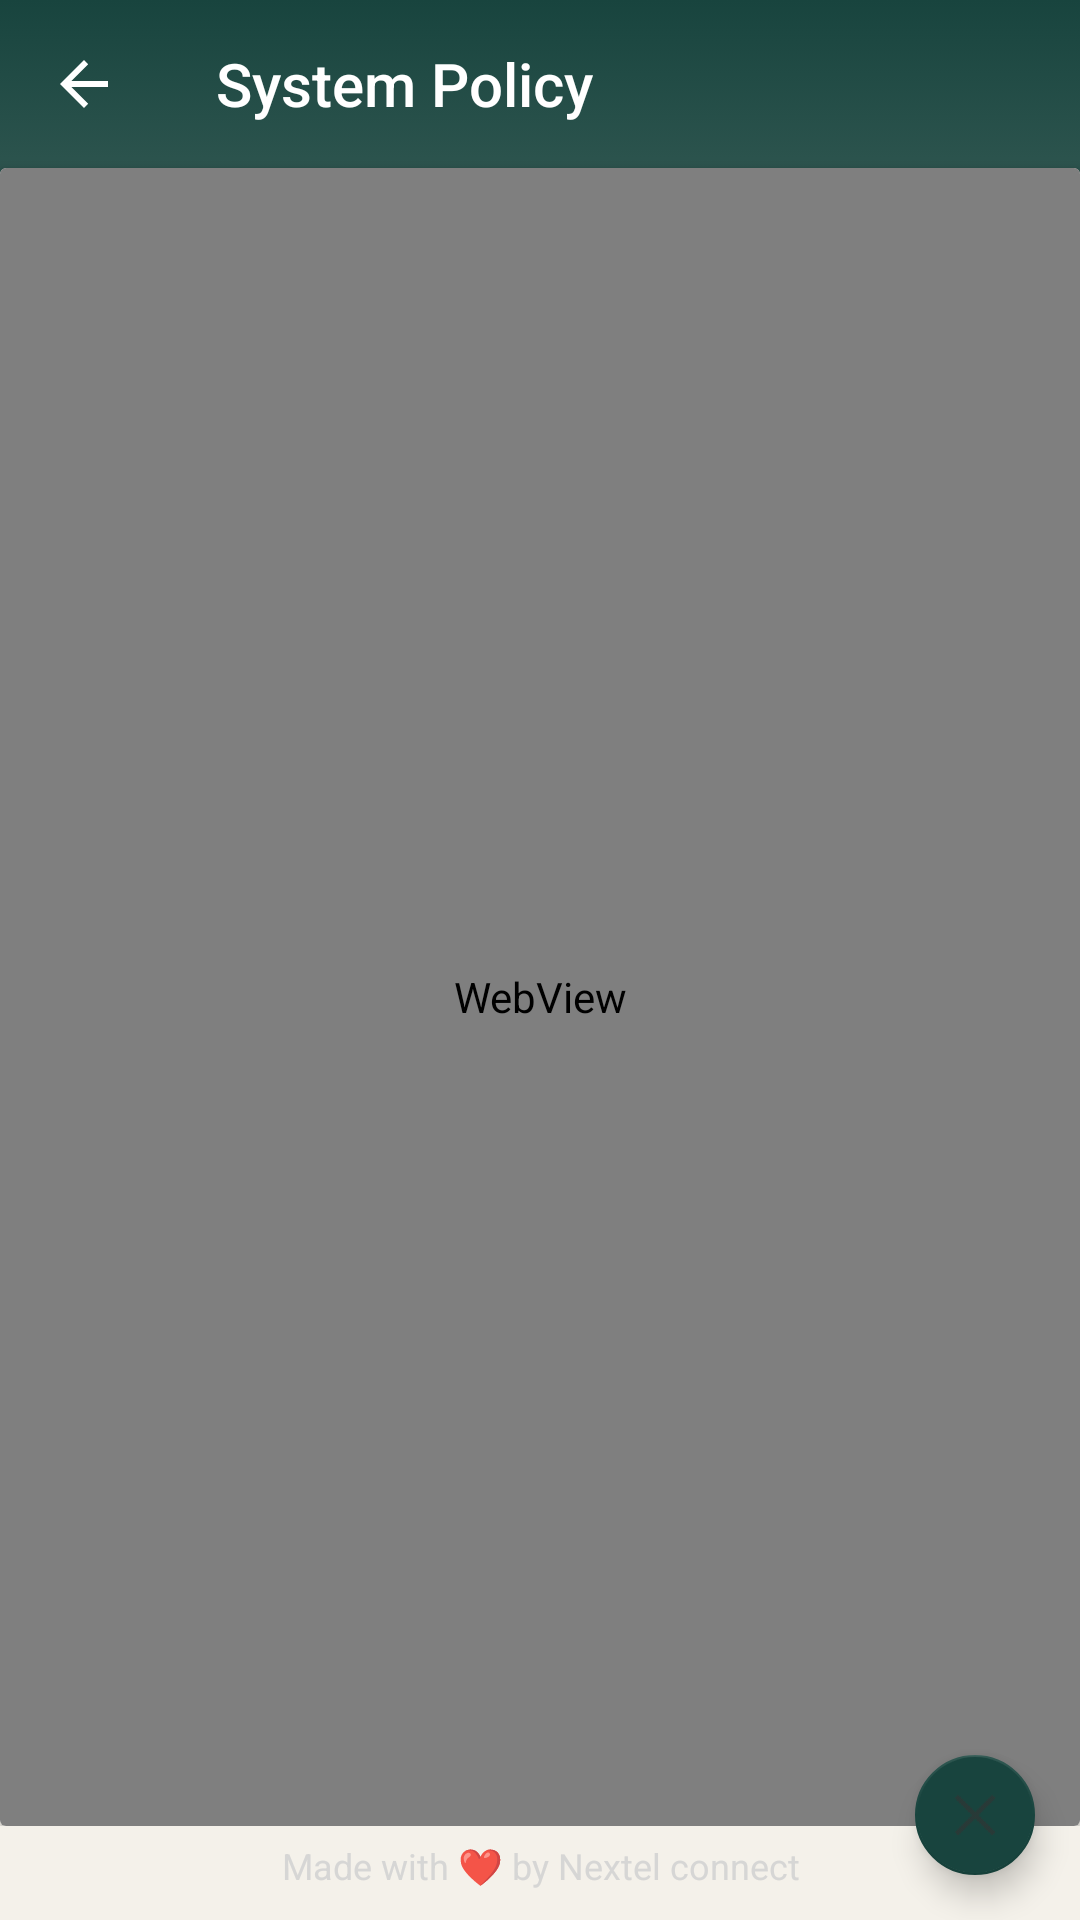

Point at icon controls on the screen. Image size 1080px x 1920px, points as (x,y).
cancel: (975,1815)
